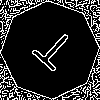T: (25, 25, 78, 80)
